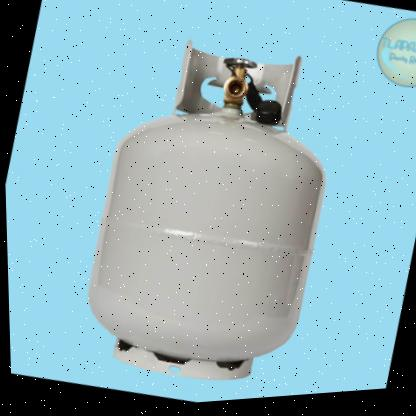gas-tank: (44, 0, 375, 412)
